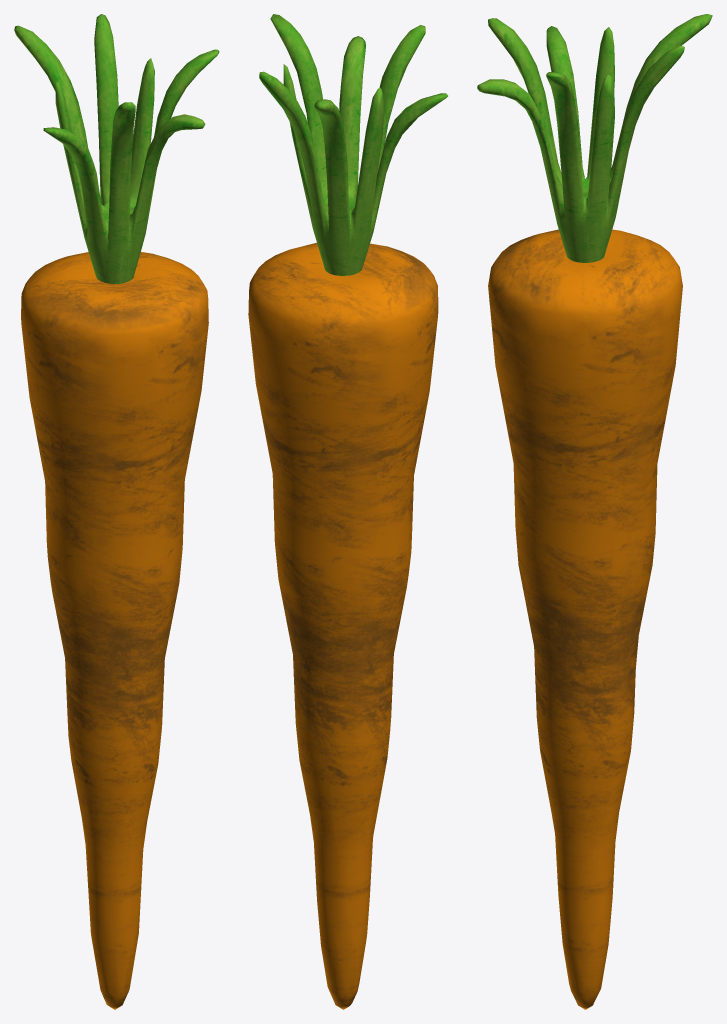
File: Carrot.fbx
The picture shows the model from 3 angles, left to right: view 1: azimuth 30°, elevation 25°; view 2: azimuth 150°, elevation 25°; view 3: azimuth 270°, elevation 25°; orthographic projection. The views are drawn at different scales.
Parts seen in each view (by area): view 1: CarrotL; view 2: CarrotL; view 3: CarrotL.
Part boxes in pixels (x1,y1,x2,y2): CarrotL: (14, 14, 219, 1009); CarrotL: (248, 14, 447, 1009); CarrotL: (477, 14, 712, 1009).
Size of the model in its own units: 7.59 by 39.68 by 8.63.
